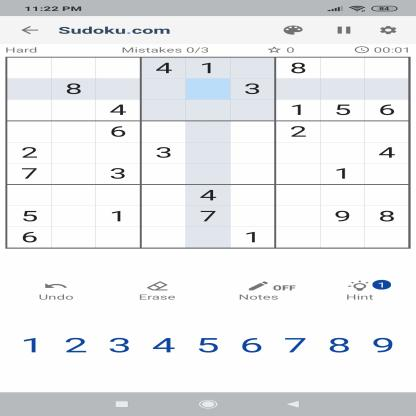sudoku: (2, 55, 414, 250)
